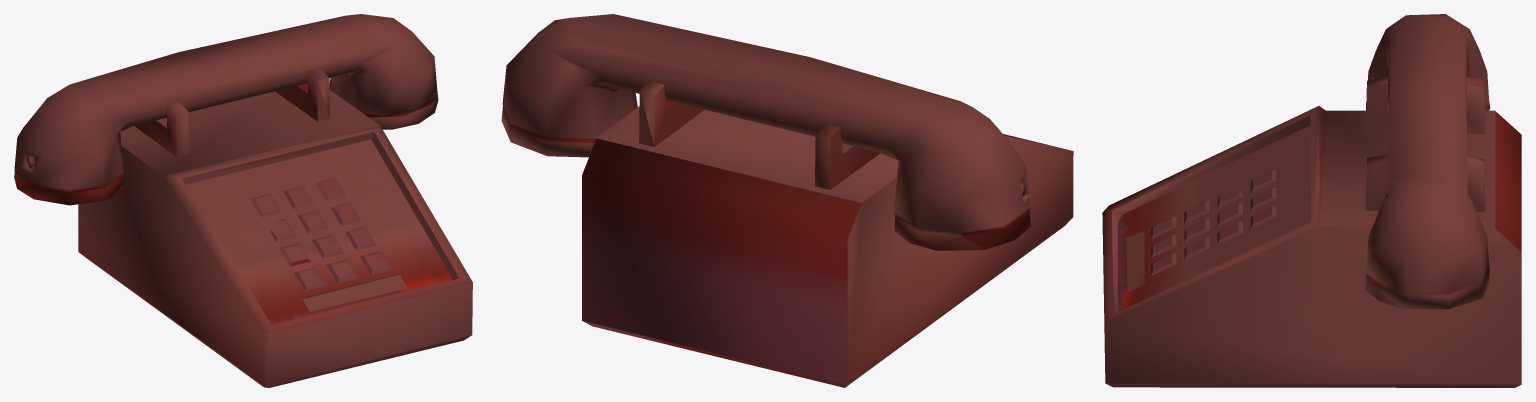
The model's file is Old Phone  .fbx.
The picture shows the model from 3 angles, left to right: view 1: azimuth 30°, elevation 25°; view 2: azimuth 150°, elevation 25°; view 3: azimuth 270°, elevation 25°; orthographic projection. The views are drawn at different scales.
Parts seen in each view (by area): view 1: Sm_Phone01; view 2: Sm_Phone01; view 3: Sm_Phone01.
Boxes of the visible parts, x1=… form: Sm_Phone01: x1=14, y1=14, x2=472, y2=387; Sm_Phone01: x1=501, y1=14, x2=1073, y2=387; Sm_Phone01: x1=1102, y1=14, x2=1521, y2=387.
Size of the model in its own units: 26.35 by 12.64 by 20.62.
